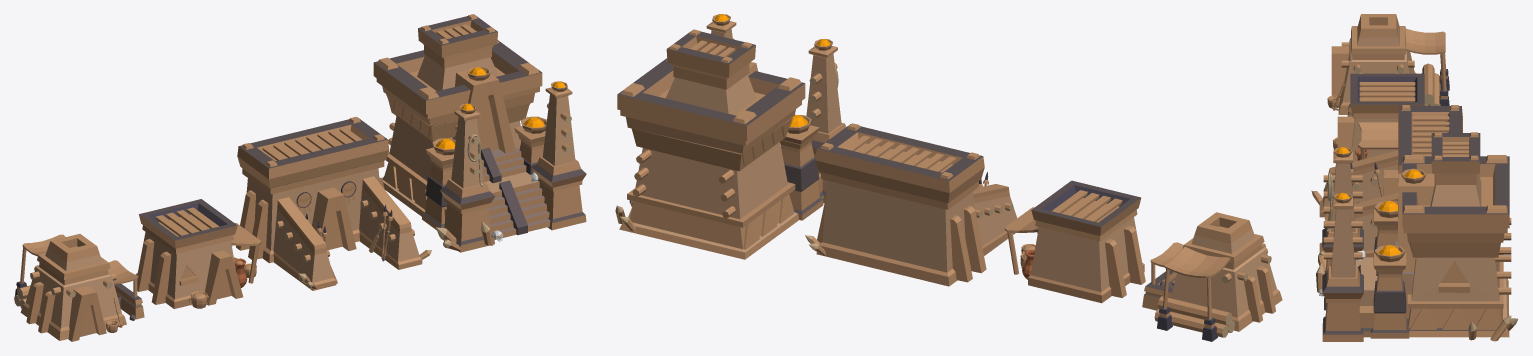
File: Aztec_Buildings_Assets.glb
The picture shows the model from 3 angles, left to right: view 1: azimuth 30°, elevation 25°; view 2: azimuth 150°, elevation 25°; view 3: azimuth 270°, elevation 25°; orthographic projection. The views are drawn at different scales.
Visible parts, largest first — view 1: Cube.011_Material.005_0, Cube.002_Material.005_0, Cube.011_Main wall_0, Cube.002_Main wall_0, Cube.011_Material.004_0, Cube.011_Dark metal_0, Cube.001_Material.005_0, Cube.011_Material.006_0, Cube.001_Main wall_0, Cube.002_Dark metal_0, Cube_Dark metal_0, Cube_Main wall_0 (+16 smaller); view 2: Cube.011_Main wall_0, Cube.011_Material.005_0, Cube.002_Main wall_0, Cube.011_Dark metal_0, Cube.002_Material.005_0, Cube.011_Material.004_0, Cube_Main wall_0, Cube.001_Main wall_0, Cube.011_Material.006_0, Cube_Dark metal_0, Cube.001_Material.005_0, Cube.002_Dark metal_0 (+14 smaller); view 3: Cube.011_Material.005_0, Cube.011_Main wall_0, Cube.011_Material.004_0, Cube.011_Dark metal_0, Cube.011_Material.006_0, Cube.011_Ornament Pieces_0, Cube.001_Material.005_0, Cube.011_Wood_0, Cube.002_Material.005_0, Cube.001_Main wall_0, Cube_Material.006_0, Cube.001_Material.006_0 (+16 smaller).
Part boxes in pixels (left/top/right/bottom): Cube.011_Material.005_0: left=373, top=20, right=586, bottom=252; Cube.002_Material.005_0: left=237, top=124, right=422, bottom=290; Cube.011_Main wall_0: left=381, top=55, right=575, bottom=212; Cube.002_Main wall_0: left=246, top=168, right=419, bottom=282; Cube.011_Material.004_0: left=374, top=15, right=586, bottom=245; Cube.011_Dark metal_0: left=376, top=44, right=581, bottom=238; Cube.001_Material.005_0: left=20, top=234, right=144, bottom=341; Cube.011_Material.006_0: left=377, top=14, right=582, bottom=213; Cube.001_Main wall_0: left=25, top=248, right=121, bottom=328; Cube.002_Dark metal_0: left=236, top=134, right=384, bottom=282; Cube_Dark metal_0: left=135, top=214, right=240, bottom=308; Cube_Main wall_0: left=143, top=232, right=235, bottom=298; Cube.011_Main wall_0: left=633, top=29, right=841, bottom=252; Cube.011_Material.005_0: left=617, top=21, right=837, bottom=259; Cube.002_Main wall_0: left=822, top=180, right=1016, bottom=272; Cube.011_Dark metal_0: left=620, top=14, right=846, bottom=249; Cube.002_Material.005_0: left=815, top=132, right=1015, bottom=286; Cube.011_Material.004_0: left=618, top=30, right=826, bottom=214; Cube_Main wall_0: left=1030, top=217, right=1137, bottom=291; Cube.001_Main wall_0: left=1170, top=229, right=1276, bottom=317; Cube.011_Material.006_0: left=621, top=29, right=815, bottom=157; Cube_Dark metal_0: left=1028, top=198, right=1145, bottom=303; Cube.001_Material.005_0: left=1142, top=212, right=1282, bottom=331; Cube.002_Dark metal_0: left=817, top=143, right=986, bottom=282; Cube.011_Material.005_0: left=1322, top=137, right=1509, bottom=341; Cube.011_Main wall_0: left=1331, top=163, right=1507, bottom=330; Cube.011_Material.004_0: left=1322, top=133, right=1509, bottom=334; Cube.011_Dark metal_0: left=1326, top=147, right=1507, bottom=328; Cube.011_Material.006_0: left=1325, top=132, right=1507, bottom=302; Cube.011_Ornament Pieces_0: left=1377, top=230, right=1499, bottom=330; Cube.001_Material.005_0: left=1331, top=14, right=1416, bottom=116; Cube.011_Wood_0: left=1316, top=142, right=1514, bottom=341; Cube.002_Material.005_0: left=1319, top=107, right=1462, bottom=259; Cube.001_Main wall_0: left=1342, top=21, right=1414, bottom=102; Cube_Material.006_0: left=1353, top=113, right=1398, bottom=149; Cube.001_Material.006_0: left=1334, top=28, right=1447, bottom=113.
Bounding box in the file's own units: 47.57 × 14.19 × 15.84.
